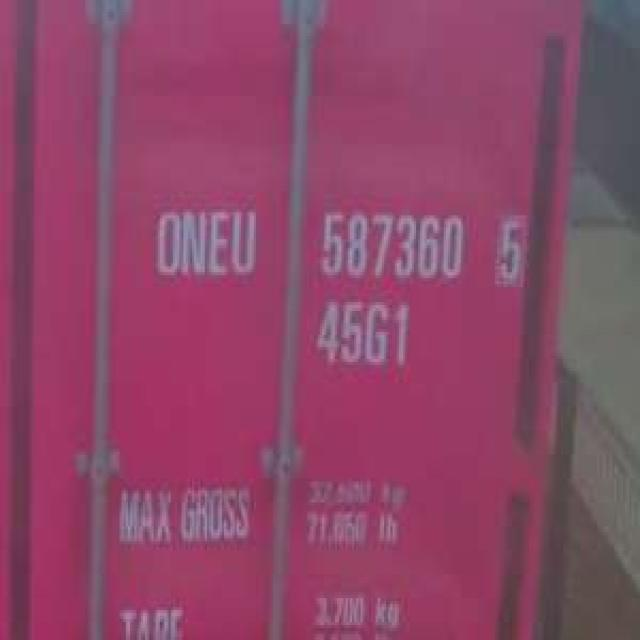dv: (485, 208, 528, 290)
owner: (152, 196, 262, 289)
serial: (316, 204, 468, 282)
size: (310, 293, 422, 377)
